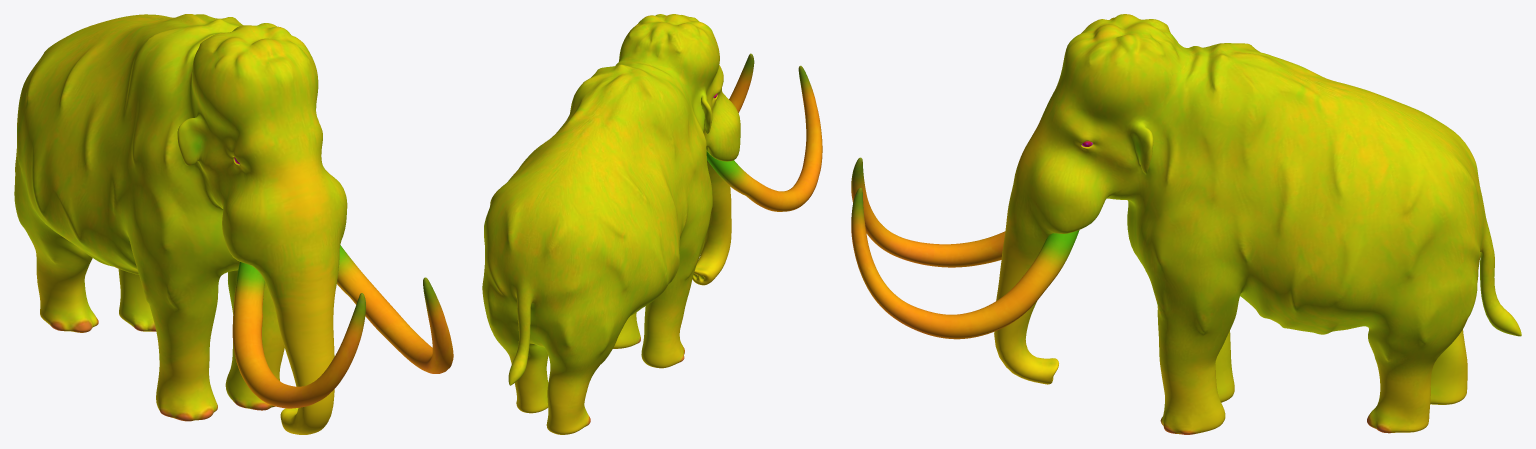
The model's file is WoolyMammoth.glb.
3 renders of one model, left to right at view 1: azimuth 30°, elevation 25°; view 2: azimuth 150°, elevation 25°; view 3: azimuth 270°, elevation 25°, orthographic. The views are drawn at different scales.
Visible parts, largest first — view 1: wooly_mammoth.1; view 2: wooly_mammoth.1; view 3: wooly_mammoth.1.
Boxes of the visible parts, x1=… form: wooly_mammoth.1: x1=14, y1=14, x2=453, y2=434; wooly_mammoth.1: x1=482, y1=14, x2=822, y2=434; wooly_mammoth.1: x1=851, y1=14, x2=1521, y2=434.
Bounding box in the file's own units: 0.2102 × 0.3729 × 0.5833.
Materials: 1 (1 with a texture image).
